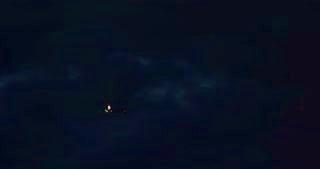Plane: (93, 100, 123, 115)
